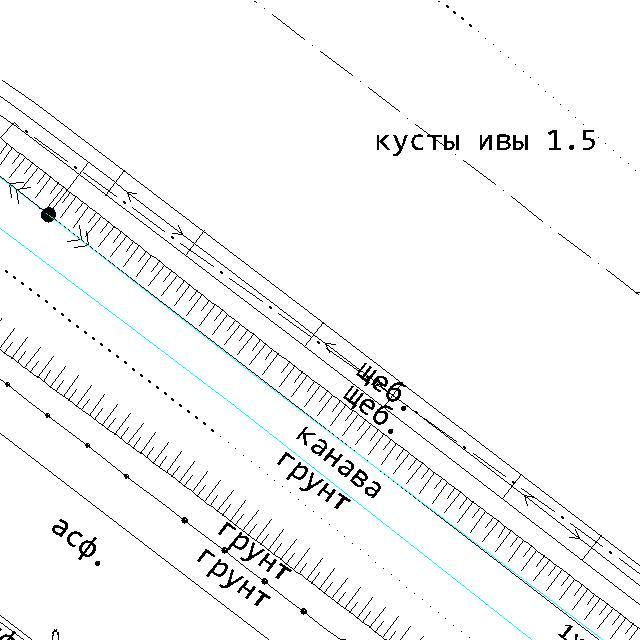mark: (43, 510, 115, 575)
